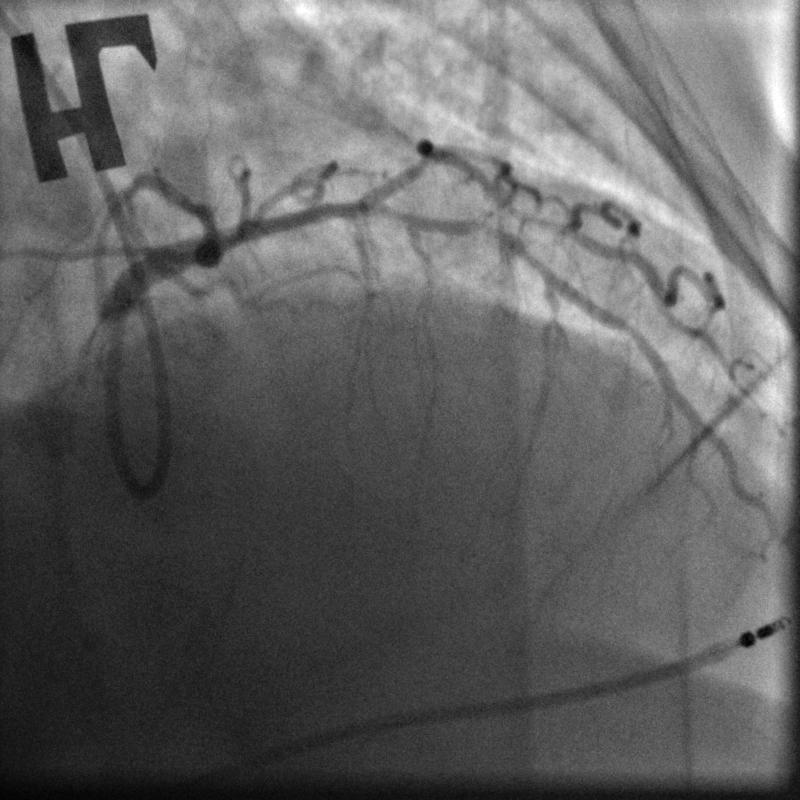Stenosis: (455, 210, 518, 249)
